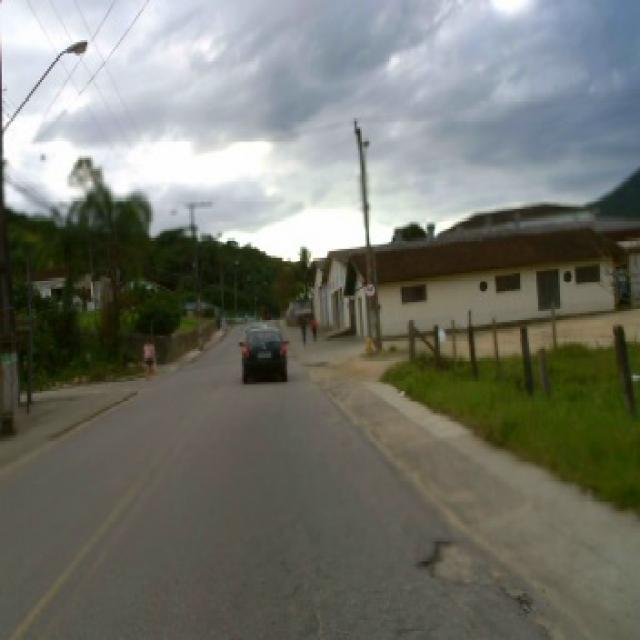Poth-hole: (487, 566, 573, 636), (414, 536, 476, 584)
